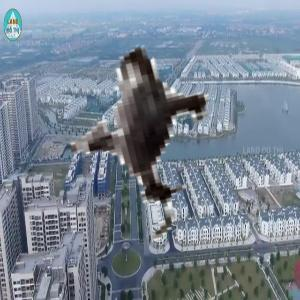drone: (5, 2, 254, 251)
